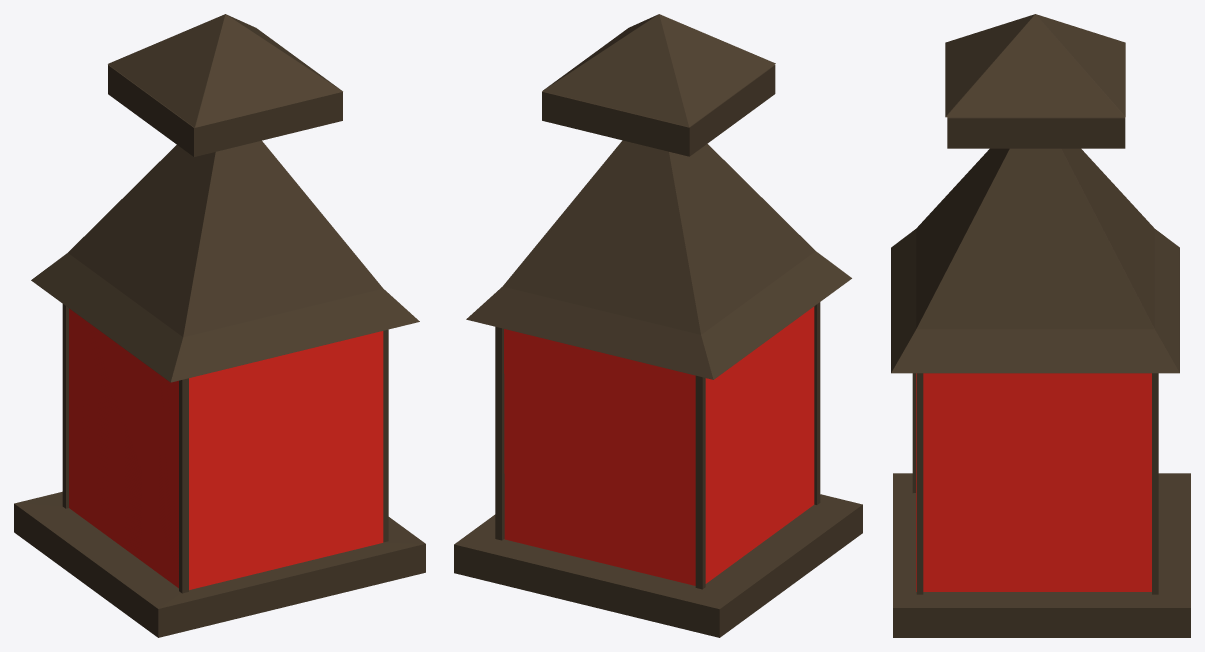
Rendered from lanternHanging.glb.
3 views of the same model, side by side, from view 1: azimuth 30°, elevation 25°; view 2: azimuth 150°, elevation 25°; view 3: azimuth 270°, elevation 25° (orthographic). The views are drawn at different scales.
Parts seen in each view (by area): view 1: LanternHanging; view 2: LanternHanging; view 3: LanternHanging.
Part boxes in pixels (x1=…): LanternHanging: x1=14, y1=14, x2=425, y2=637; LanternHanging: x1=454, y1=14, x2=862, y2=637; LanternHanging: x1=891, y1=14, x2=1190, y2=637.
Bounding box in the file's own units: 2.67 × 5.16 × 2.51.
